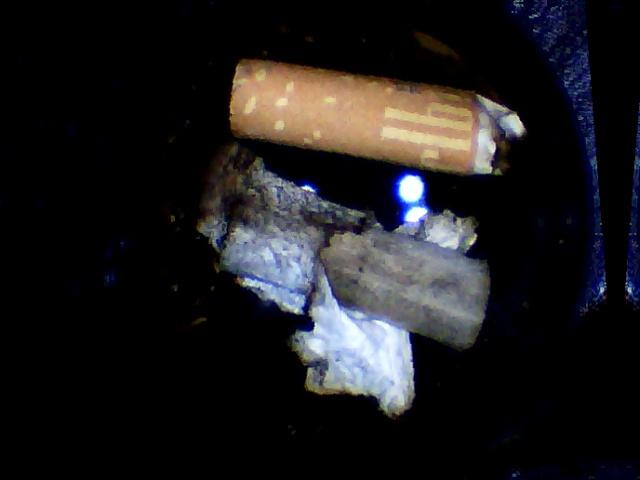megot: (185, 109, 516, 443), (218, 20, 543, 211)
